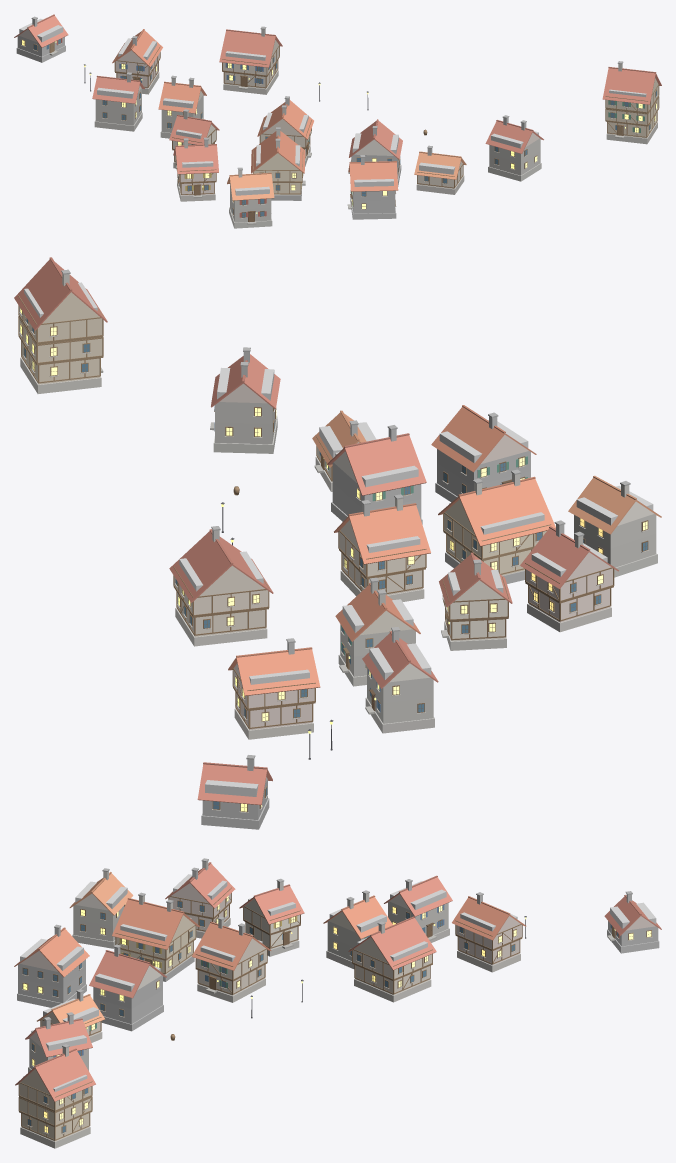
File: struct_7_7.glb
3 renders of one model, top to bottom at view 1: azimuth 30°, elevation 25°; view 2: azimuth 150°, elevation 25°; view 3: azimuth 270°, elevation 25°, orthographic. The views are drawn at different scales.
Visible parts, largest first — view 1: HousesNear, Occluder-occonly; view 2: HousesNear, Occluder-occonly; view 3: HousesNear, Occluder-occonly, HousesFar.
Part boxes in pixels (x1,y1,x2,y2): HousesNear: (14,14,661,228); Occluder-occonly: (19,18,646,195); HousesNear: (14,257,661,829); Occluder-occonly: (24,282,653,796); HousesNear: (14,862,661,1148); Occluder-occonly: (20,874,656,1091); HousesFar: (66,858,611,1024).
Bounding box in the file's own units: 101 × 18.35 × 110.
